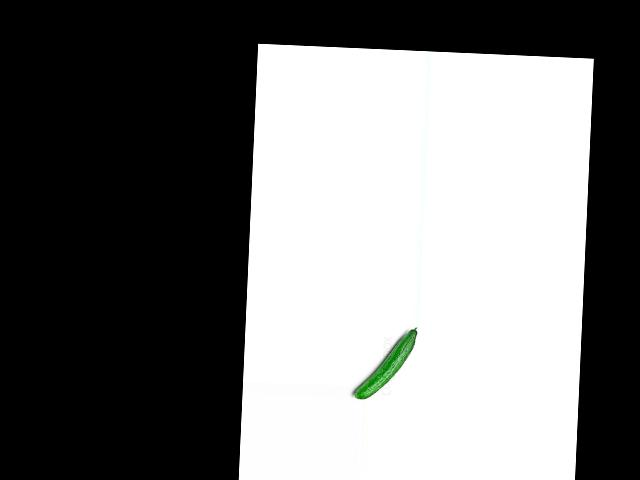cucumber: (353, 323, 417, 401)
